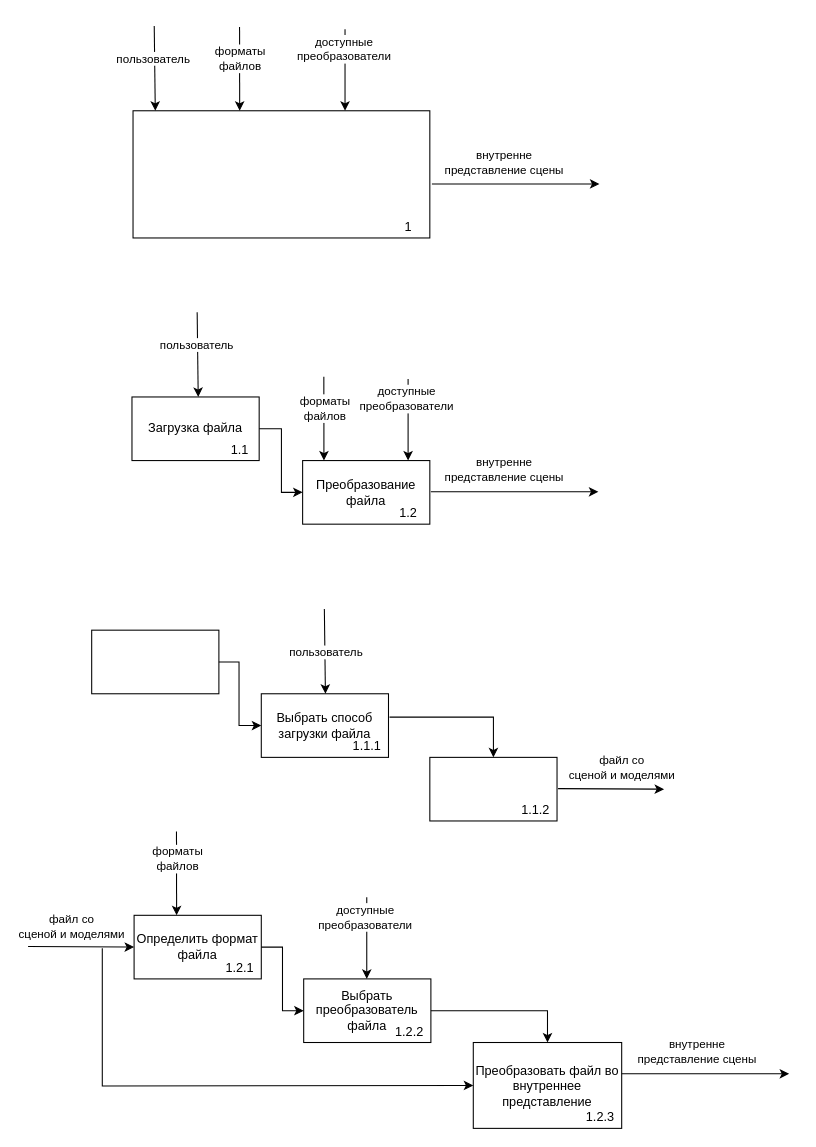
This 816x1147 diagram has some shape labels left out. Here are the shapes that lost their labels. From the top down, the box of each, then its label:
(132, 110, 430, 238): Загрузить сцену
(91, 629, 219, 694): Предложить способы загрузки файлов
(429, 756, 557, 821): Загрузить файл
